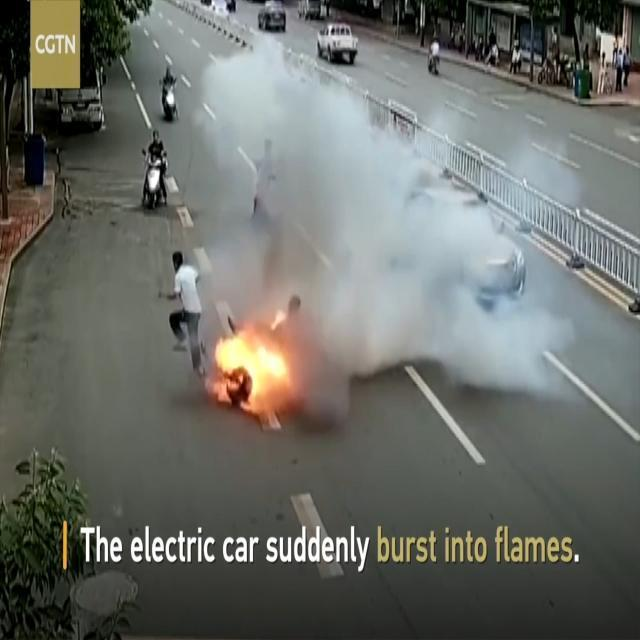fire: (205, 297, 313, 414)
